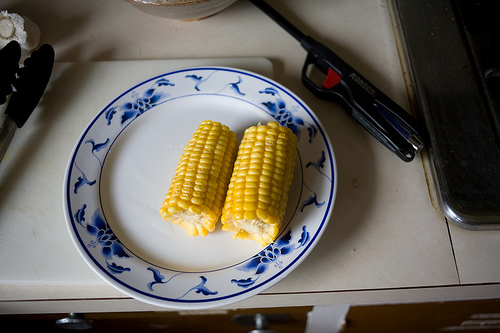corn: (218, 119, 299, 248), (159, 120, 240, 243)
